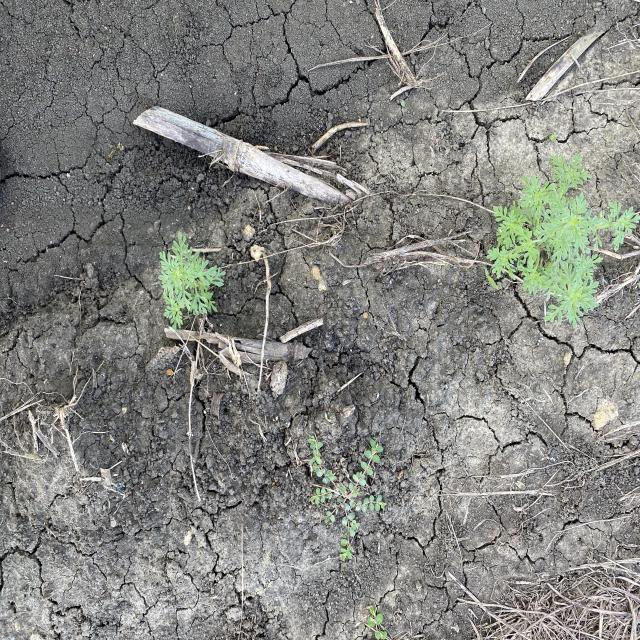Ragweed: (484, 148, 640, 334), (158, 229, 228, 334)
SpottedSpurge: (306, 431, 388, 565)
